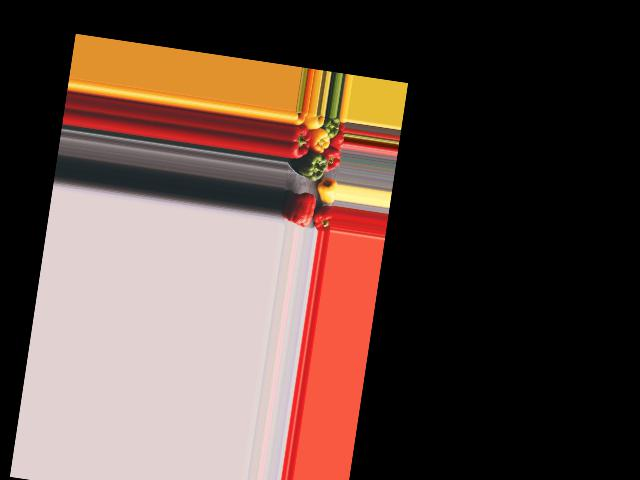bell_pepper: (312, 203, 331, 232)
